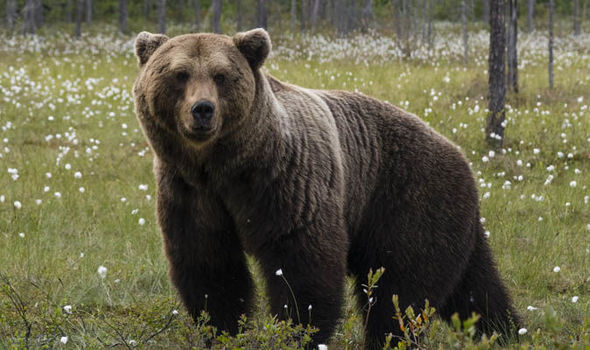bear: (133, 27, 275, 143)
